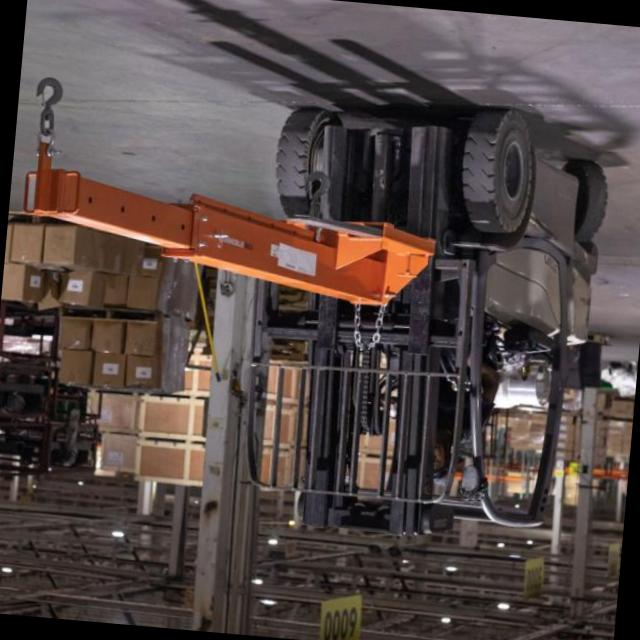forklift: (227, 82, 618, 583)
